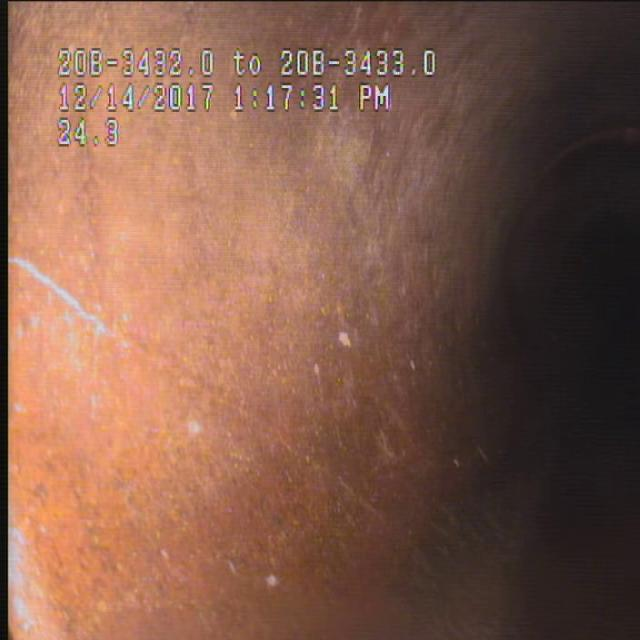Crack: (30, 239, 413, 557)
